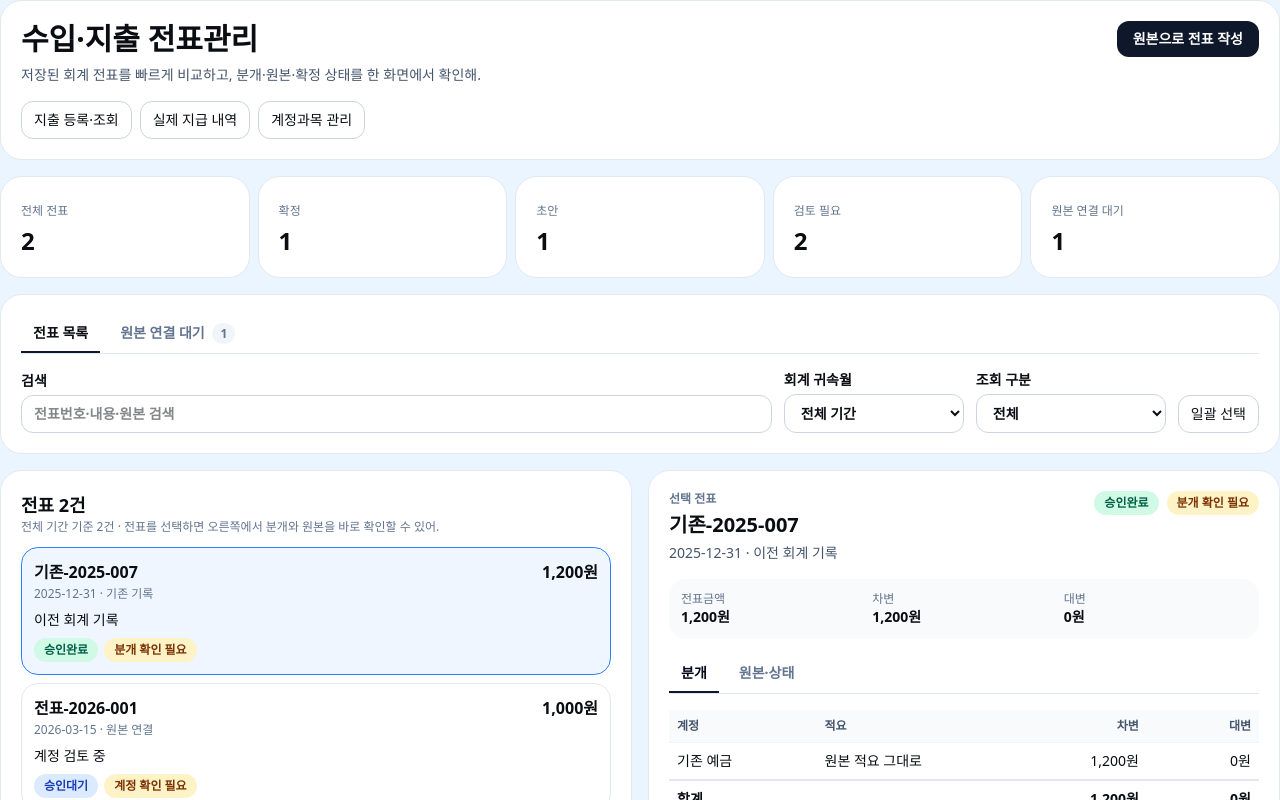
it: accounting drafts and original records › shows persisted legacy numbers, approval and exact lines without offering to rewrite legacy entries
The width and height of the screenshot is (1280, 800).
Expected: the heading "기존-2025-007" is shown, [669, 511, 799, 538]
Expected: the text "기존 예금" is shown, [669, 742, 816, 780]
Step 1. Select "기존 기록" in the dropdown labelled "조회 구분" → (1071, 414), box [976, 394, 1166, 433]
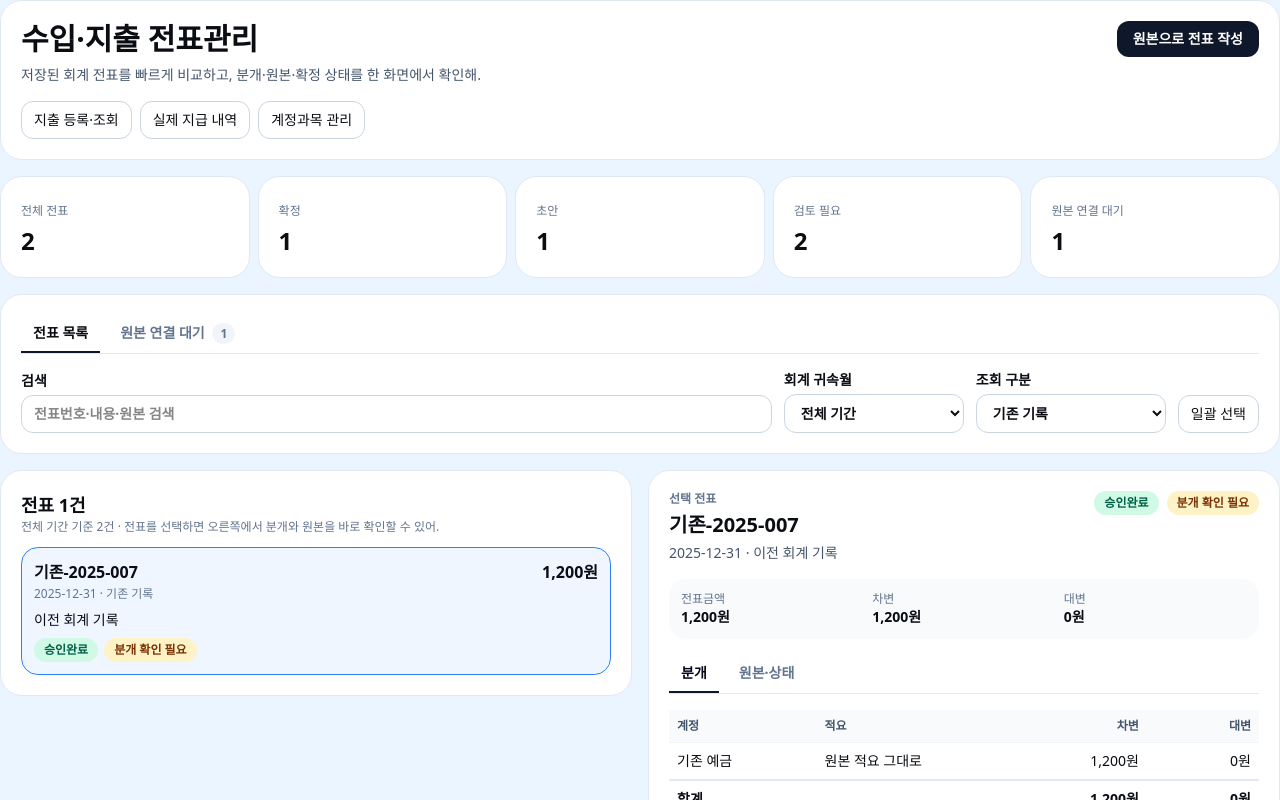
Expected: the heading "전표 1건" is shown, [21, 493, 86, 517]
Expected: the button "전표-2026-001" is gone
